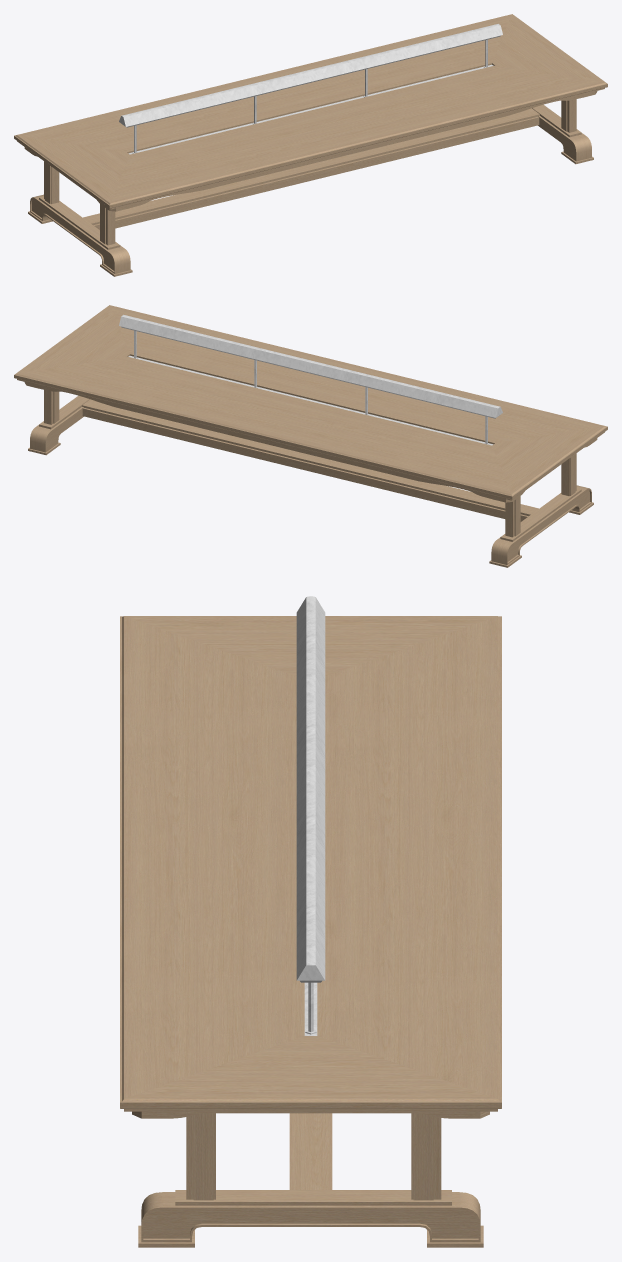
File: D_Desk_202.fbx
3 renders of one model, top to bottom at view 1: azimuth 30°, elevation 25°; view 2: azimuth 150°, elevation 25°; view 3: azimuth 270°, elevation 25°, orthographic. The views are drawn at different scales.
Parts seen in each view (by area): view 1: D_Desk_202; view 2: D_Desk_202; view 3: D_Desk_202.
Boxes of the visible parts, x1,y1,x2,y2 form: D_Desk_202: (14, 14, 607, 276); D_Desk_202: (14, 305, 607, 567); D_Desk_202: (120, 596, 501, 1247).
Bounding box in the file's own units: 5.39 × 1.2 × 1.79.
